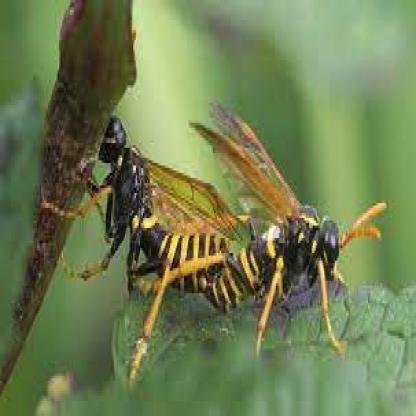sawfly: (192, 96, 390, 354), (37, 121, 233, 360)
